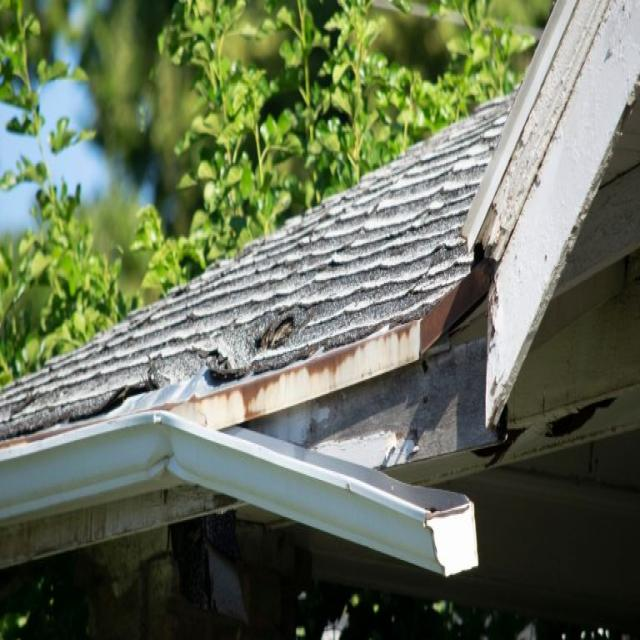House: (6, 6, 639, 638)
